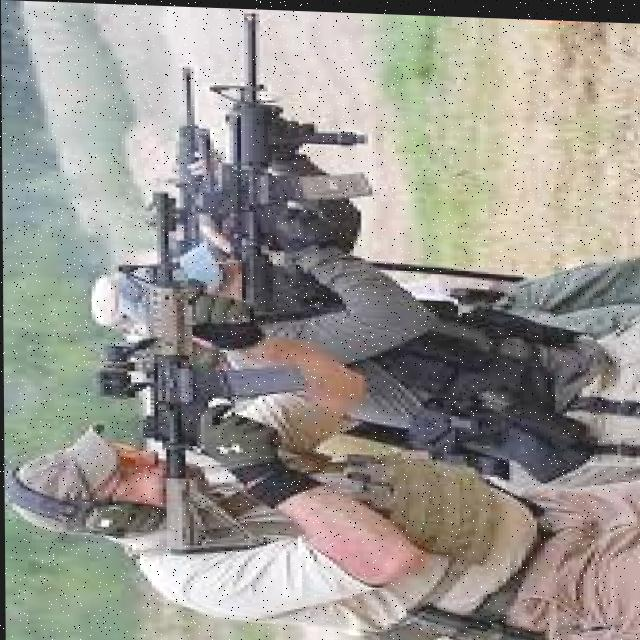firearm: (96, 189, 307, 559), (210, 9, 370, 316), (140, 63, 226, 283)
